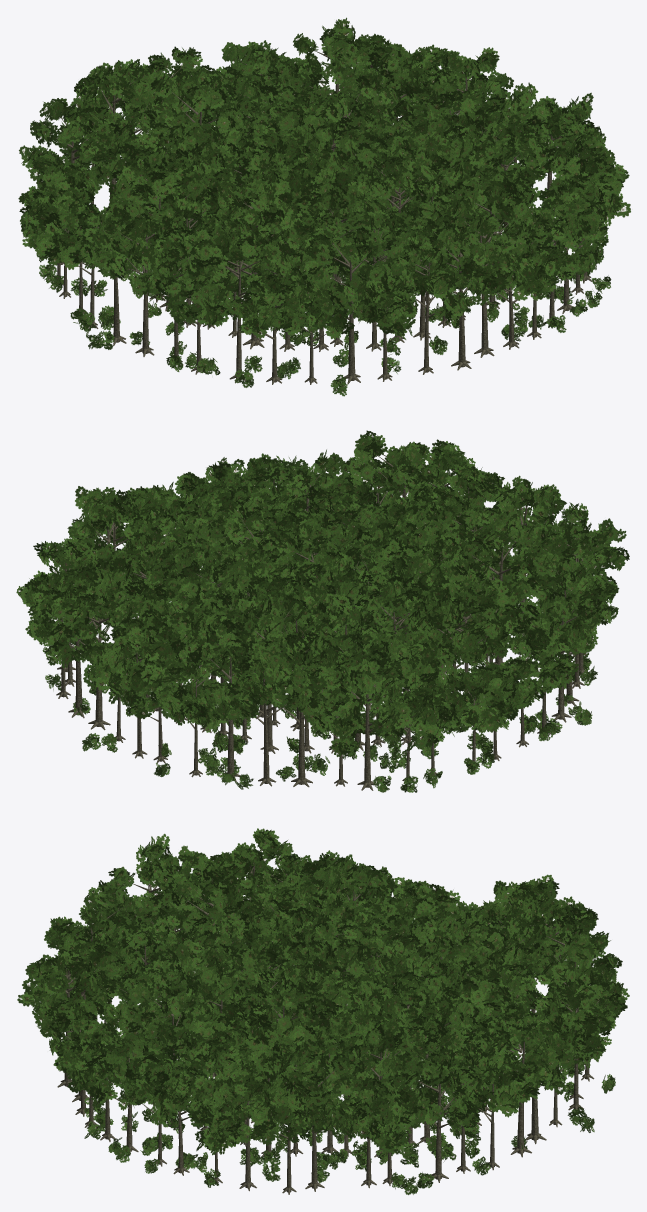
The model's file is forest.glb.
3 views of the same model, one above another, from view 1: azimuth 30°, elevation 25°; view 2: azimuth 150°, elevation 25°; view 3: azimuth 270°, elevation 25° (orthographic).
Parts seen in each view (by area): view 1: Forest_Leaves, Forest_Bark; view 2: Forest_Leaves, Forest_Bark; view 3: Forest_Leaves, Forest_Bark.
Part boxes in pixels (<box>): Forest_Leaves: <box>18,17,630,396</box>; Forest_Bark: <box>56,50,609,384</box>; Forest_Leaves: <box>16,430,629,792</box>; Forest_Bark: <box>48,451,600,790</box>; Forest_Leaves: <box>17,828,629,1194</box>; Forest_Bark: <box>34,845,606,1194</box>.
Size of the model in its own units: 69.98 by 19.47 by 70.5.
2 materials, 2 textured.
